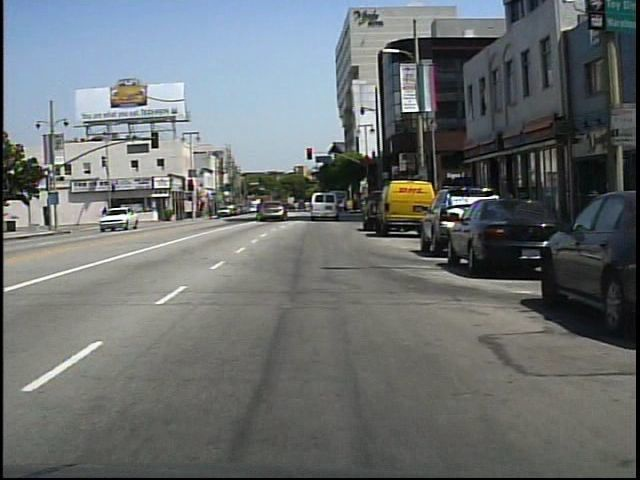person: (253, 193, 270, 222), (99, 202, 115, 230)
